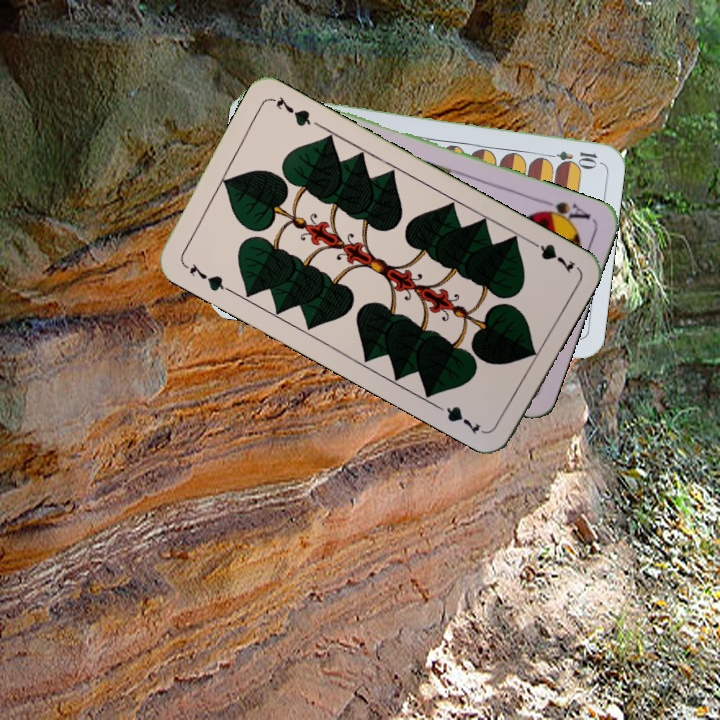E10: (541, 146, 600, 168)
G7: (524, 235, 578, 276), (179, 259, 233, 294)
SA: (534, 195, 593, 228)
